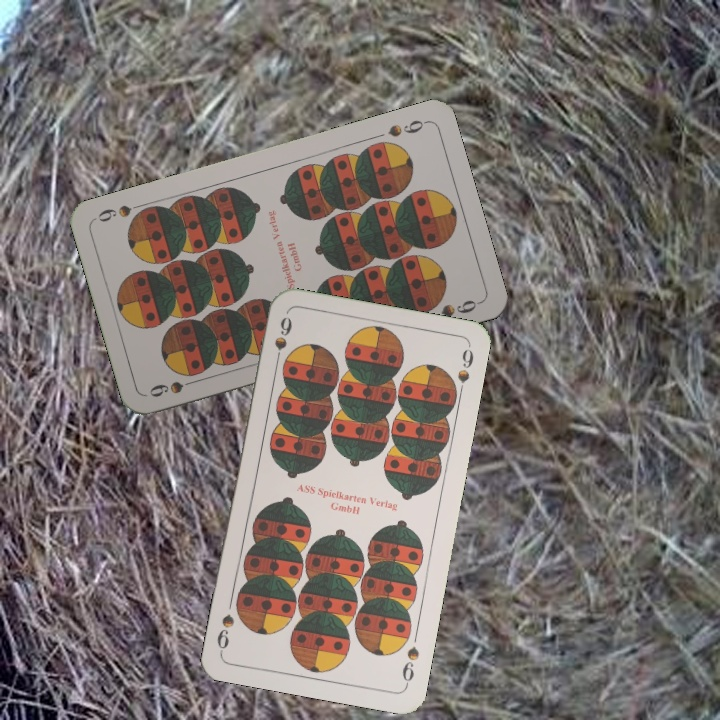S9: (145, 374, 203, 400), (270, 313, 295, 370), (383, 116, 430, 140), (398, 642, 422, 689)
